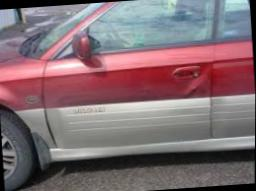Door: (46, 50, 215, 148)
Fender: (0, 55, 55, 148)
